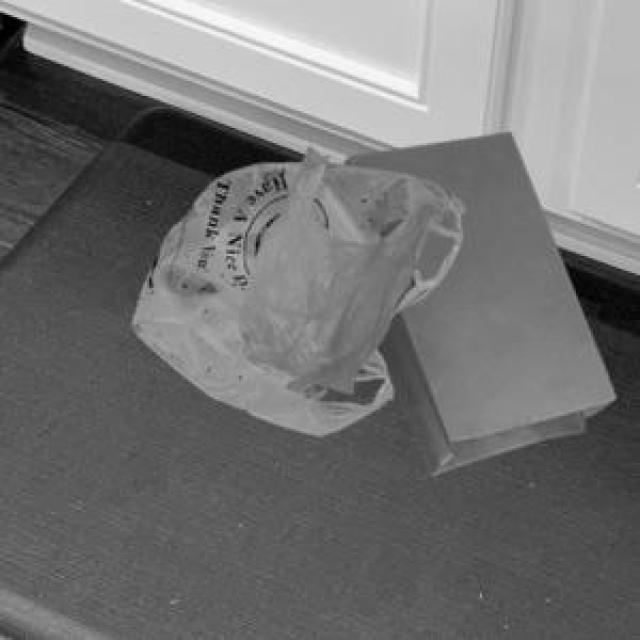paper: (341, 128, 610, 472)
